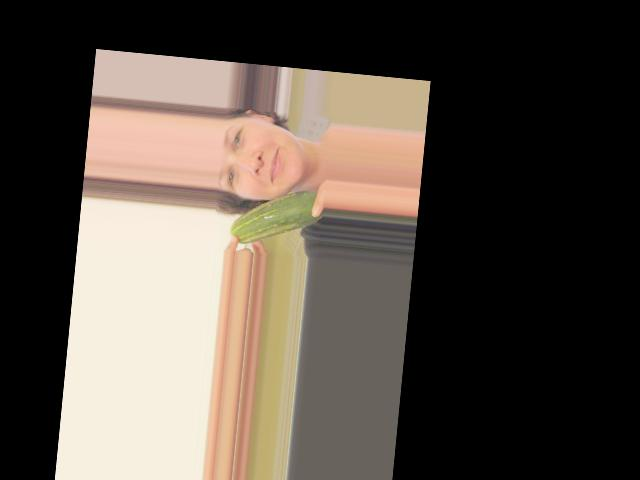cucumber: (228, 182, 325, 250)
